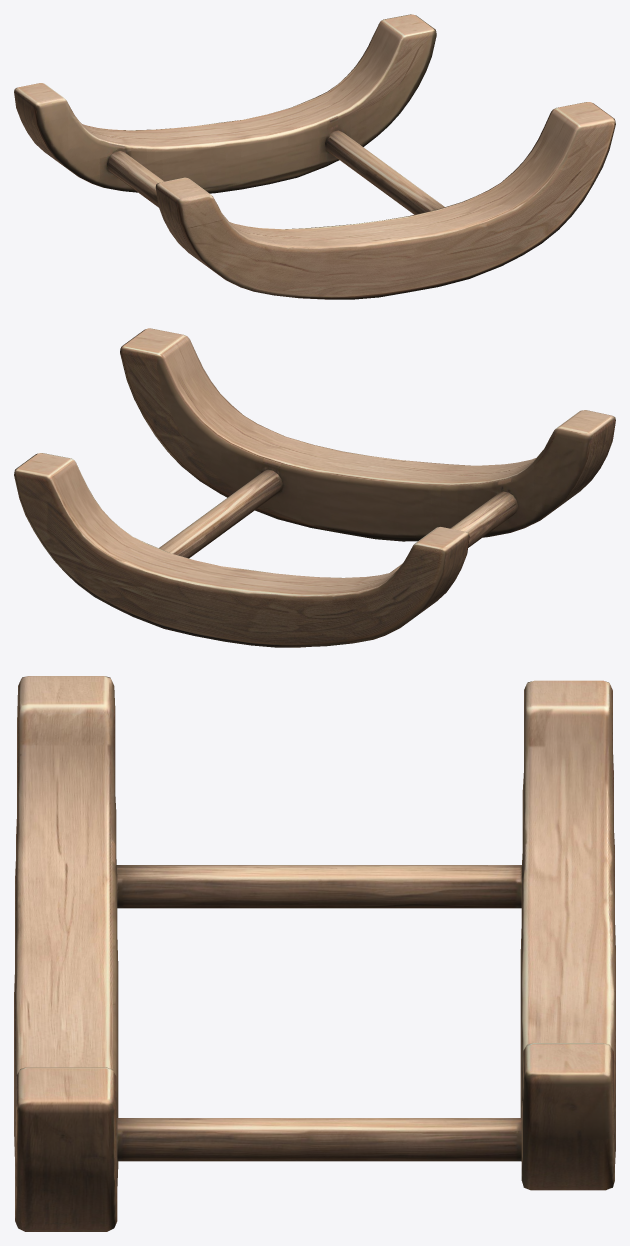
File: act1-a14-6-rocker-runners.glb
The picture shows the model from 3 angles, top to bottom: view 1: azimuth 30°, elevation 25°; view 2: azimuth 150°, elevation 25°; view 3: azimuth 270°, elevation 25°; orthographic projection. The views are drawn at different scales.
Parts seen in each view (by area): view 1: act1-a14-6-rocker-runners; view 2: act1-a14-6-rocker-runners; view 3: act1-a14-6-rocker-runners.
Part boxes in pixels (<box>): act1-a14-6-rocker-runners: <box>14,14,615,299</box>; act1-a14-6-rocker-runners: <box>14,328,615,647</box>; act1-a14-6-rocker-runners: <box>14,676,615,1231</box>.
Size of the model in its own units: 5.4 by 1.76 by 3.52.
Materials: 1 (1 with a texture image).
